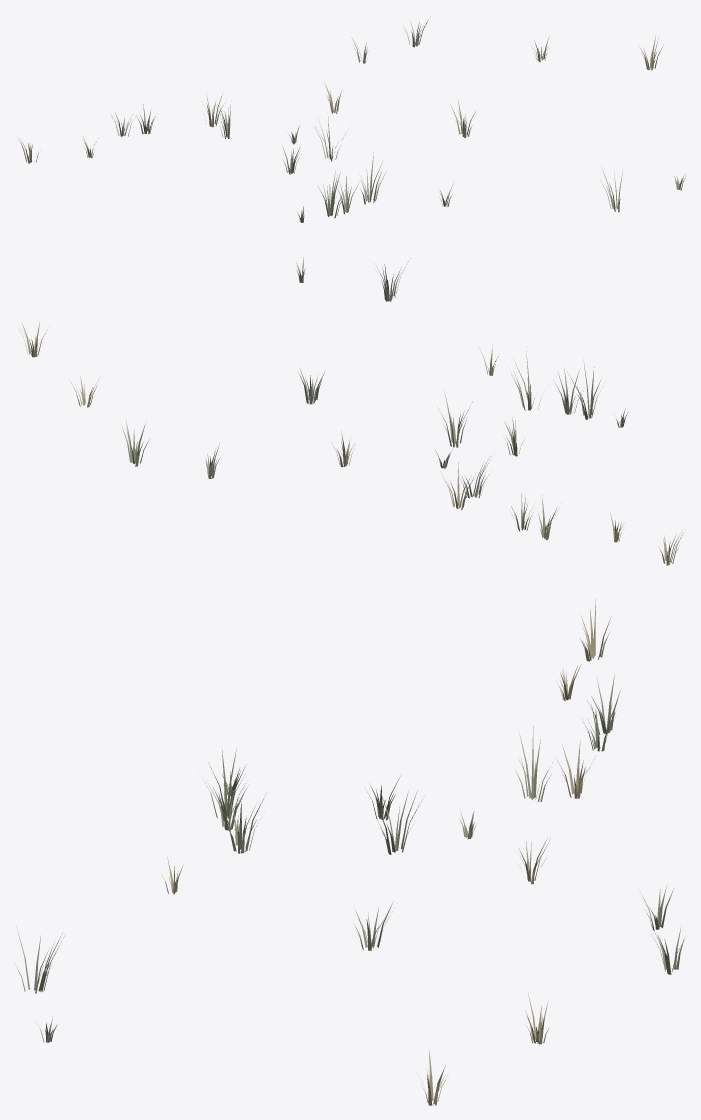
The model's file is AE_Grass_1_-4.fbx.
3 views of the same model, one above another, from view 1: azimuth 30°, elevation 25°; view 2: azimuth 150°, elevation 25°; view 3: azimuth 270°, elevation 25° (orthographic). The views are drawn at different scales.
Parts seen in each view (by area): view 1: AE_Grass_1_-4_LOD0; view 2: AE_Grass_1_-4_LOD0; view 3: AE_Grass_1_-4_LOD0.
Part boxes in pixels (bbox=[...]): AE_Grass_1_-4_LOD0: bbox=[19, 20, 685, 222]; AE_Grass_1_-4_LOD0: bbox=[17, 257, 685, 565]; AE_Grass_1_-4_LOD0: bbox=[15, 599, 684, 1105].
Size of what is drawn, in the model's own units: 1419 by 119 by 890.
